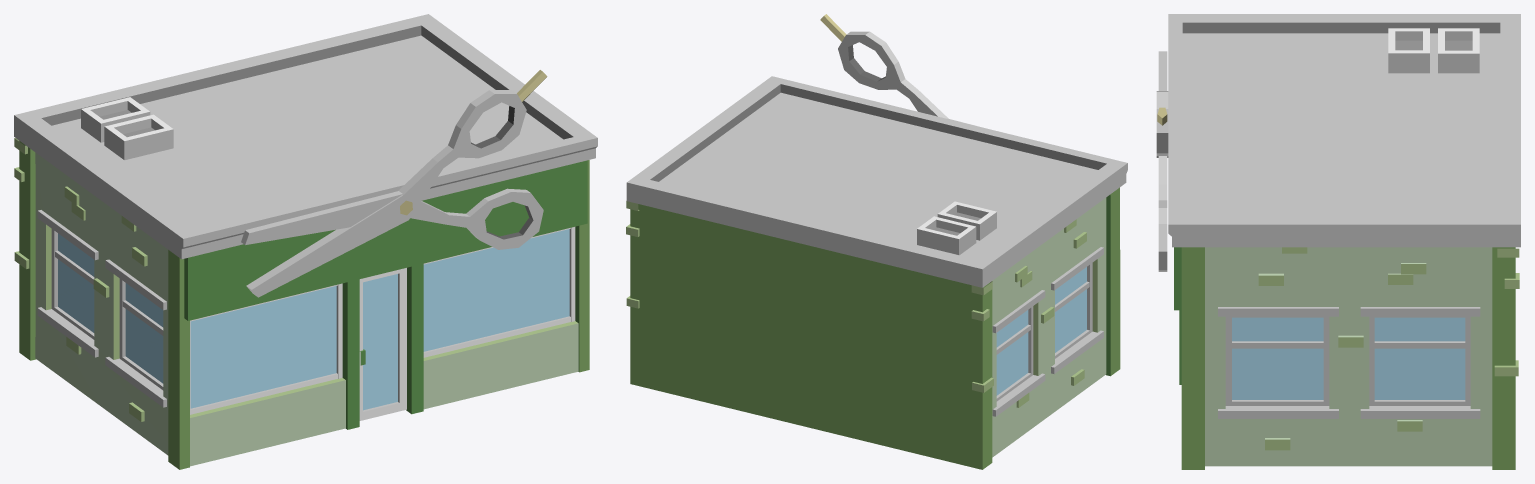
The model's file is services_store_001.fbx.
3 renders of one model, left to right at view 1: azimuth 30°, elevation 25°; view 2: azimuth 150°, elevation 25°; view 3: azimuth 270°, elevation 25°, orthographic. The views are drawn at different scales.
Parts seen in each view (by area): view 1: services_store_001; view 2: services_store_001; view 3: services_store_001.
Part boxes in pixels (bbox=[...]): services_store_001: bbox=[14, 14, 597, 469]; services_store_001: bbox=[626, 14, 1127, 469]; services_store_001: bbox=[1156, 14, 1520, 469].
Bounding box in the file's own units: 683 × 502 × 498.
